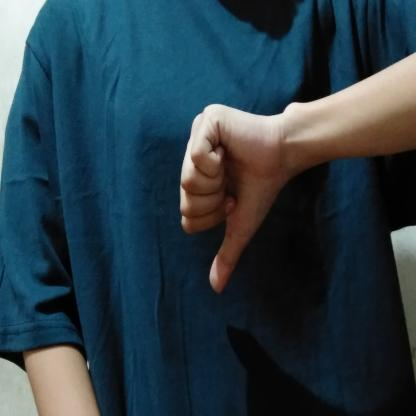no: (173, 95, 303, 302)
